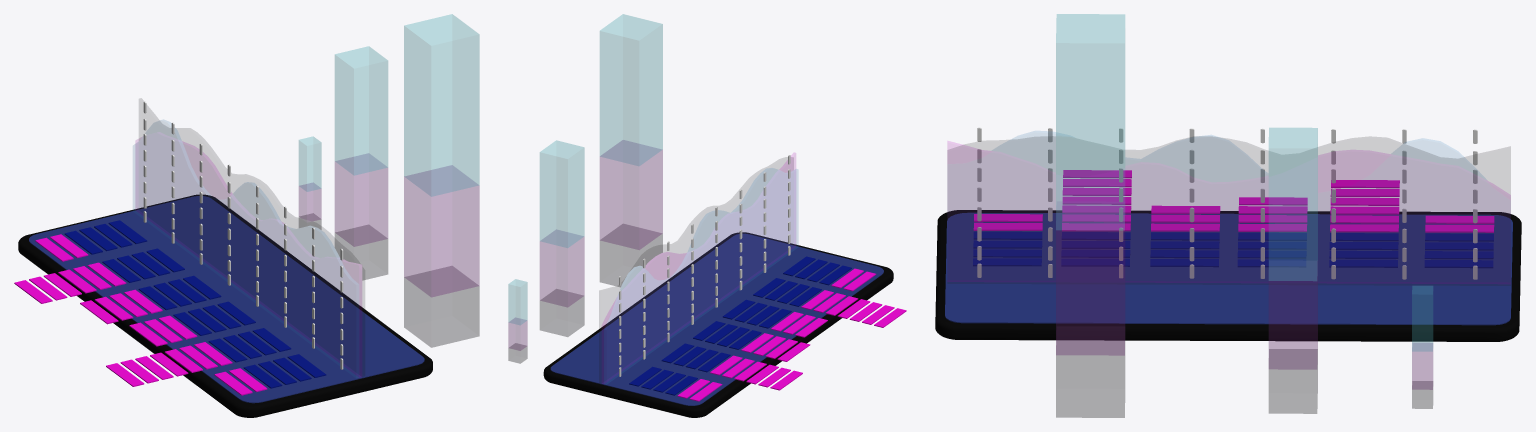
File: phonegraph.glb
The picture shows the model from 3 angles, left to right: view 1: azimuth 30°, elevation 25°; view 2: azimuth 150°, elevation 25°; view 3: azimuth 270°, elevation 25°; orthographic projection. The views are drawn at different scales.
Visible parts, largest first — view 1: Cube_009, Cube_010, Cube_002, Cube_001, Cube_022, Cylinder, Cube_003, Cube_012, Cube, Cube_004, Cube_021, Cube_013 (+6 smaller); view 2: Cube_009, Cube_010, Cube_002, Cube_022, Cube_001, Cylinder, Cube_003, Cube_012, Cube_004, Cube, Cube_005, Cube_019 (+6 smaller); view 3: Cube_012, Cube_009, Cube_002, Cube_022, Cylinder, Cube_001, Cube_003, Cube, Cube_010, Cube_004, Cube_020, Cube_013 (+15 smaller).
Boxes of the visible parts, x1,y1,x2,y2 form: Cube_009: (29,196,424,403); Cube_010: (133,120,358,377); Cube_002: (404,14,479,196); Cube_001: (404,165,479,297); Cube_022: (14,234,267,395); Cylinder: (18,194,432,417); Cube_003: (335,46,387,175); Cube_012: (139,98,364,376); Cube: (404,266,479,347); Cube_004: (335,153,387,246); Cube_021: (64,230,282,388); Cube_013: (108,220,326,377); Cube_009: (550,233,883,405); Cube_010: (604,168,797,384); Cube_002: (600,14,662,165); Cube_022: (677,268,906,401); Cube_001: (600,140,662,249); Cylinder: (543,232,893,417); Cube_003: (540,140,584,247); Cube_012: (599,157,793,382); Cube_004: (540,229,584,307); Cube: (600,224,662,286); Cube_005: (540,289,584,336); Cube_019: (641,259,827,389); Cube_012: (948,136,1510,285); Cube_009: (945,212,1512,325); Cube_002: (1056,14,1124,230); Cube_022: (973,170,1494,232); Cylinder: (935,210,1521,341); Cube_001: (1056,201,1124,355); Cube_003: (1269,128,1317,280); Cube: (1056,326,1124,417); Cube_010: (992,131,1484,181); Cube_004: (1269,260,1317,369); Cube_020: (973,240,1493,250); Cube_013: (973,258,1493,268).
Bounding box in the file's own units: 0.8637 × 0.7243 × 1.03.
